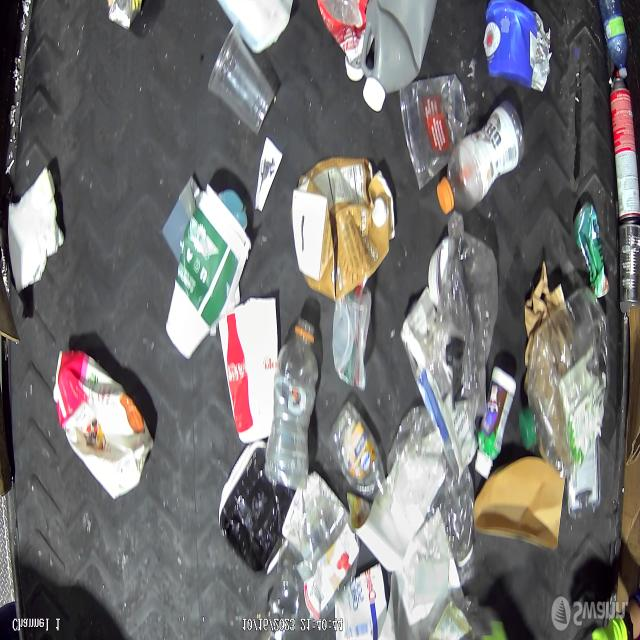can: (611, 69, 640, 224), (572, 200, 610, 300), (618, 222, 640, 315)
non_white_jug: (292, 150, 396, 303), (53, 348, 155, 500), (360, 0, 439, 115)
plastic_bottle: (519, 288, 613, 477), (436, 97, 526, 215), (263, 314, 320, 493), (327, 402, 389, 512), (597, 0, 628, 81)
